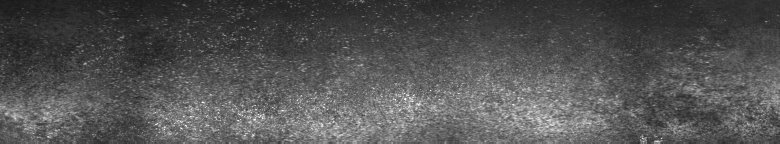kb: (344, 4, 775, 136)
